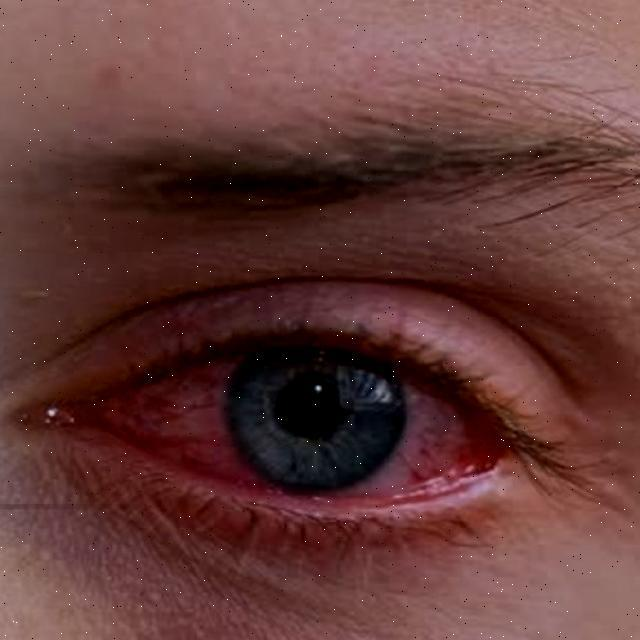Conjunctivitis: (28, 360, 500, 505)
